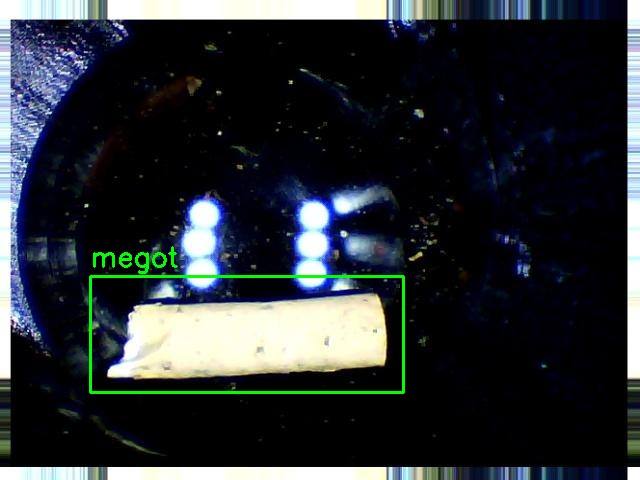megot: (90, 276, 403, 392)
